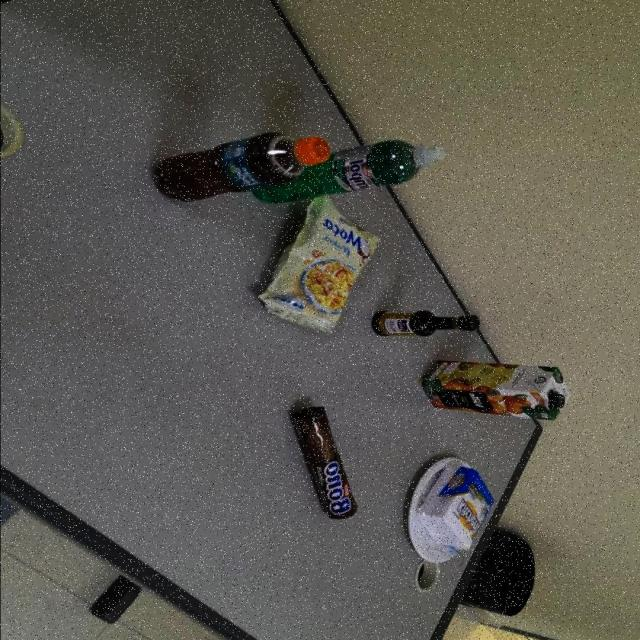Cleaner: (247, 139, 443, 206)
Cookies: (295, 404, 362, 525)
CornFlakes: (247, 197, 380, 331)
EnglishSauce: (371, 308, 477, 337)
IceTea: (159, 132, 329, 203)
